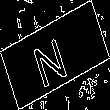N_NW: (34, 24, 76, 86)
